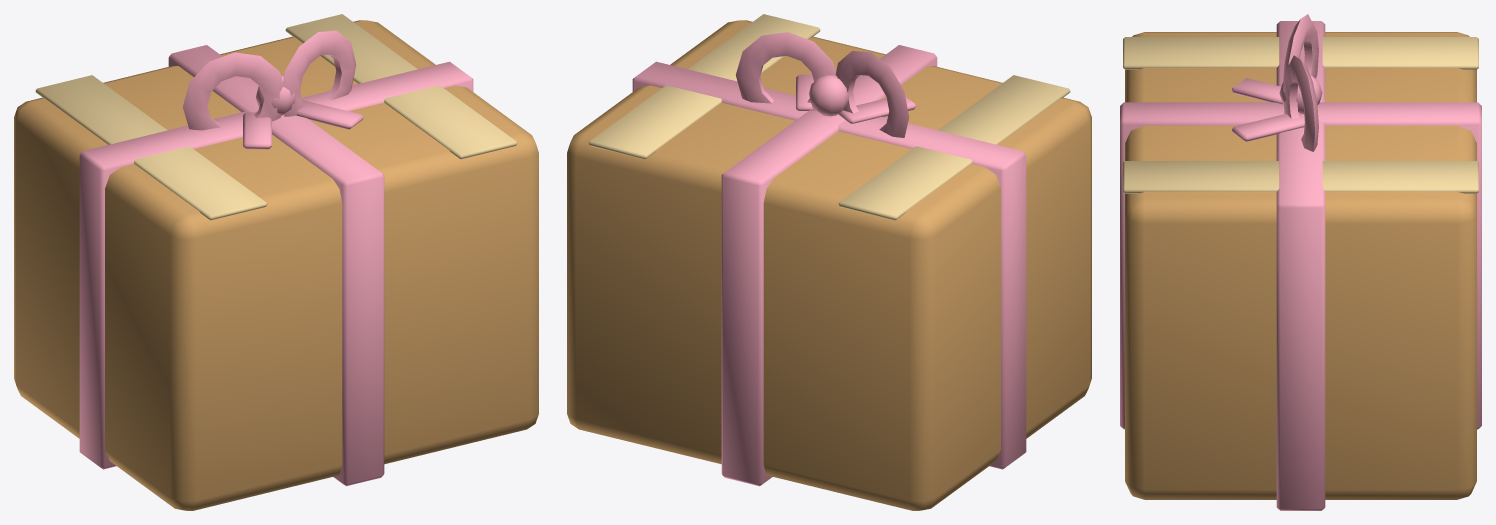
File: item_box.glb
3 renders of one model, left to right at view 1: azimuth 30°, elevation 25°; view 2: azimuth 150°, elevation 25°; view 3: azimuth 270°, elevation 25°, orthographic.
Visible parts, largest first — view 1: item_box; view 2: item_box; view 3: item_box.
Part boxes in pixels (box(x1,y1,x2,y2)): item_box: box(14, 14, 538, 510); item_box: box(567, 14, 1091, 510); item_box: box(1120, 14, 1481, 510).
Size of the model in its own units: 0.448 by 0.431 by 0.37.
